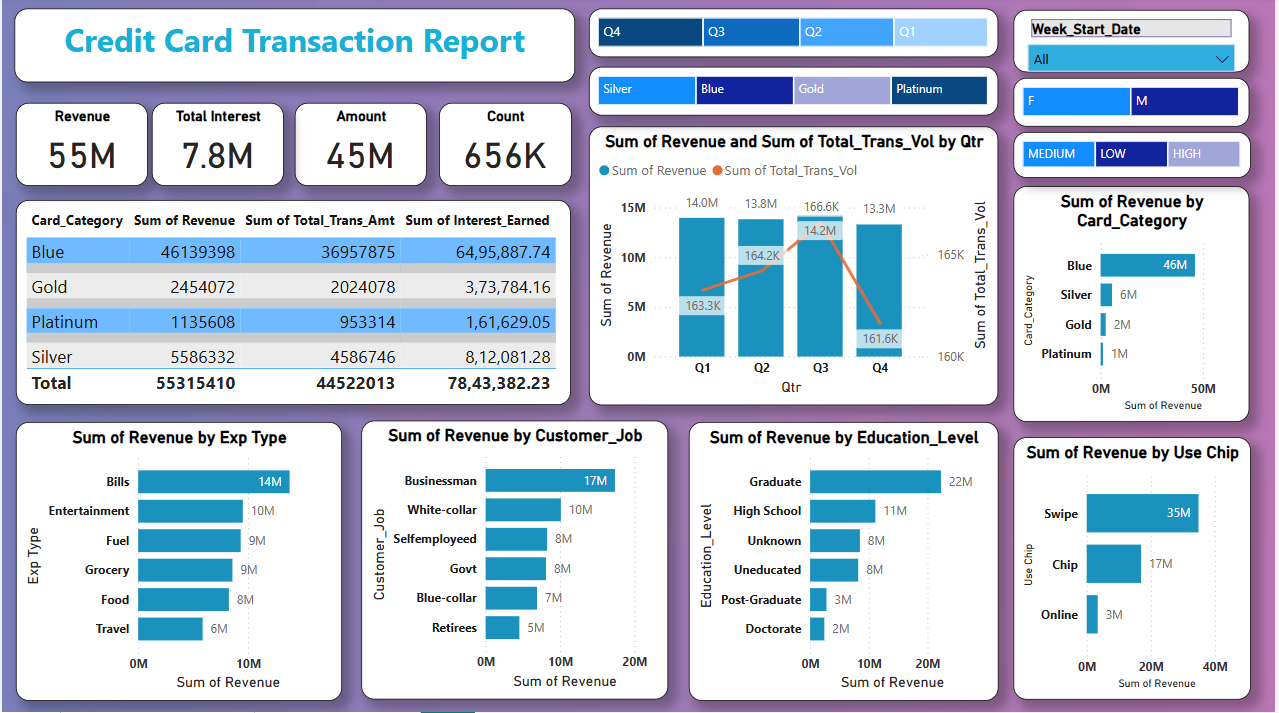

This screenshot's page, from the dashboard's own definition file:
{"tool":"powerbi","page":{"name":"CC TRANSACTION","canvas":[1280,720],"ordinal":1},"visuals":[{"type":"lineStackedColumnComboChart","fields":{"Category":["credit_card.Qtr"],"Y":["Sum(credit_card.Revenue)"],"Y2":["Sum(credit_card.Total_Trans_Vol)"]},"box":[590.1,131.1,411.5,280.4],"z":0},{"type":"textbox","box":[12.6,12.6,563.6,73.9],"z":1000},{"type":"barChart","fields":{"Y":["Sum(credit_card.Revenue)"],"Category":["credit_card.Exp Type"]},"box":[13.9,428.2,327.8,280.4],"z":2000},{"type":"barChart","fields":{"Y":["Sum(credit_card.Revenue)"],"Category":["customer.Education_Level"]},"box":[690.5,428.2,311.1,280.4],"z":3000},{"type":"barChart","fields":{"Y":["Sum(credit_card.Revenue)"],"Category":["customer.Customer_Job"]},"box":[361.3,426.8,308.3,280.4],"z":4000},{"type":"barChart","fields":{"Y":["Sum(credit_card.Revenue)"],"Category":["credit_card.Card_Category"]},"box":[1016.9,191.1,237.1,237.1],"z":5000},{"type":"barChart","fields":{"Y":["Sum(credit_card.Revenue)"],"Category":["credit_card.Use Chip"]},"box":[1016.9,443.6,238.5,263.6],"z":6000},{"type":"tableEx","fields":{"Values":["credit_card.Card_Category","Sum(credit_card.Revenue)","Sum(credit_card.Total_Trans_Amt)","Sum(credit_card.Interest_Earned)"]},"box":[13.9,205.1,558,206.4],"z":7000},{"type":"card","title":" Revenue","fields":{"Values":["Sum(credit_card.Revenue)"]},"box":[13.9,107.4,132.5,83.7],"z":8000},{"type":"card","title":"Amount","fields":{"Values":["Sum(credit_card.Total_Trans_Amt)"]},"box":[294.3,107.4,132.5,83.7],"z":9000},{"type":"card","title":"Total Interest","fields":{"Values":["Sum(credit_card.Interest_Earned)"]},"box":[150.7,107.4,132.5,83.7],"z":10000},{"type":"card","title":"Count","fields":{"Values":["Sum(credit_card.Total_Trans_Vol)"]},"box":[439.4,107.4,133,83.7],"z":11000},{"type":"slicer","fields":{"Values":["credit_card.Week_Start_Date"]},"box":[1016.9,13.9,237.1,62.8],"z":12000},{"type":"treemap","fields":{"Group":["credit_card.Qtr"],"Values":["Avg(customer.Client_Num)"]},"box":[590.1,12.6,411.5,48.8],"z":13000},{"type":"treemap","fields":{"Group":["customer.Gender"],"Values":["Avg(customer.Client_Num)"]},"box":[1016.9,82.3,237.1,48.8],"z":14000},{"type":"treemap","fields":{"Group":["credit_card.Card_Category"],"Values":["Avg(customer.Client_Num)"]},"box":[590.1,71.1,411.5,48.8],"z":15000},{"type":"treemap","fields":{"Group":["customer.IncomeGROUP"],"Values":["Avg(customer.Client_Num)"]},"box":[1016.9,136.7,238.5,46],"z":16000}]}

Visuals, with their boxes in screenshot pixels (x1, y1, x2, y2), scaled from the page's 1280x720 canvas onto the 1279x713 screenshot:
lineStackedColumnComboChart - credit_card.Qtr x Sum(credit_card.Revenue): select_region(590, 130, 1001, 407)
textbox: select_region(13, 12, 576, 86)
barChart - Sum(credit_card.Revenue) x credit_card.Exp Type: select_region(14, 424, 341, 702)
barChart - Sum(credit_card.Revenue) x customer.Education_Level: select_region(690, 424, 1001, 702)
barChart - Sum(credit_card.Revenue) x customer.Customer_Job: select_region(361, 423, 669, 700)
barChart - Sum(credit_card.Revenue) x credit_card.Card_Category: select_region(1016, 189, 1253, 424)
barChart - Sum(credit_card.Revenue) x credit_card.Use Chip: select_region(1016, 439, 1254, 700)
tableEx - credit_card.Card_Category x Sum(credit_card.Revenue): select_region(14, 203, 571, 407)
" Revenue" card: select_region(14, 106, 146, 189)
"Amount" card: select_region(294, 106, 426, 189)
"Total Interest" card: select_region(151, 106, 283, 189)
"Count" card: select_region(439, 106, 572, 189)
slicer - credit_card.Week_Start_Date: select_region(1016, 14, 1253, 76)
treemap - credit_card.Qtr x Avg(customer.Client_Num): select_region(590, 12, 1001, 61)
treemap - customer.Gender x Avg(customer.Client_Num): select_region(1016, 81, 1253, 130)
treemap - credit_card.Card_Category x Avg(customer.Client_Num): select_region(590, 70, 1001, 119)
treemap - customer.IncomeGROUP x Avg(customer.Client_Num): select_region(1016, 135, 1254, 181)
